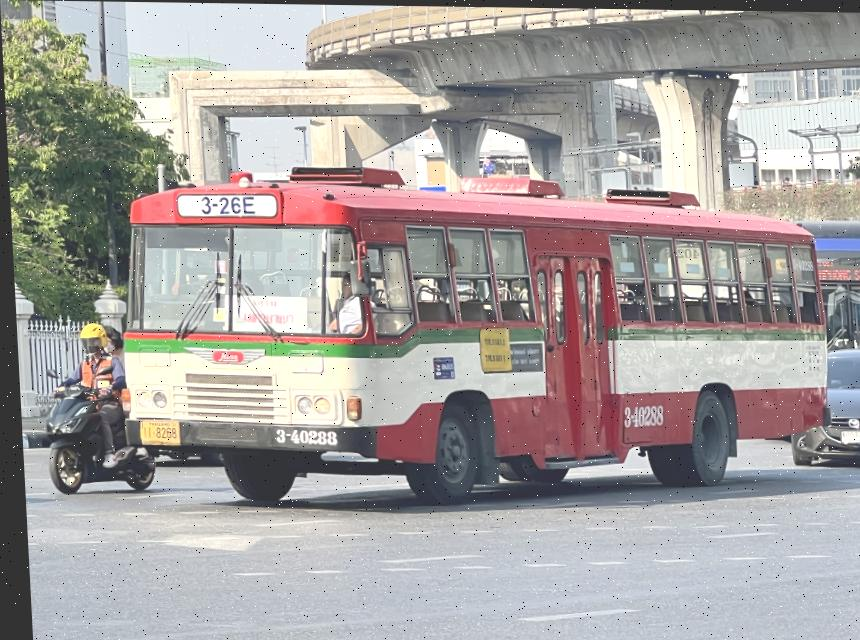BMTA-bus: (92, 168, 826, 506)
Bus Line Number: (192, 193, 258, 218)
Bus Side Number: (262, 424, 340, 448), (617, 398, 664, 430)
Destination Sign: (220, 294, 307, 335)
